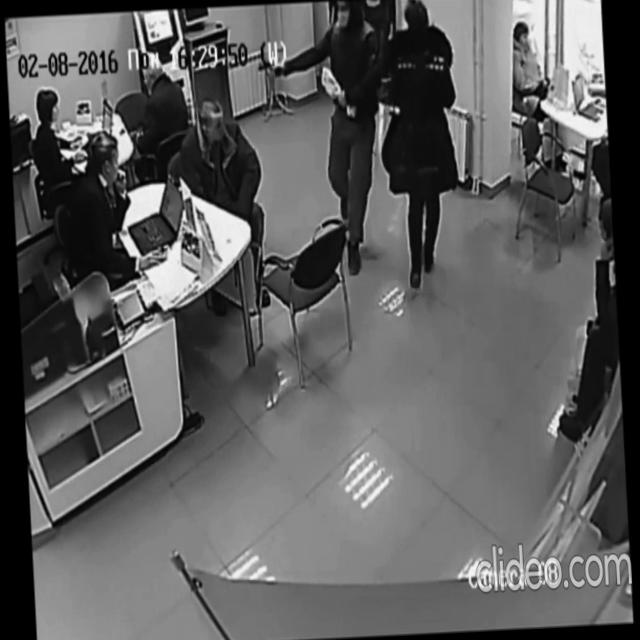gun: (257, 58, 281, 80)
person: (372, 0, 466, 293), (178, 96, 272, 316), (65, 124, 169, 290), (508, 15, 568, 178), (31, 85, 88, 202)
person with a gun: (256, 0, 394, 283)
